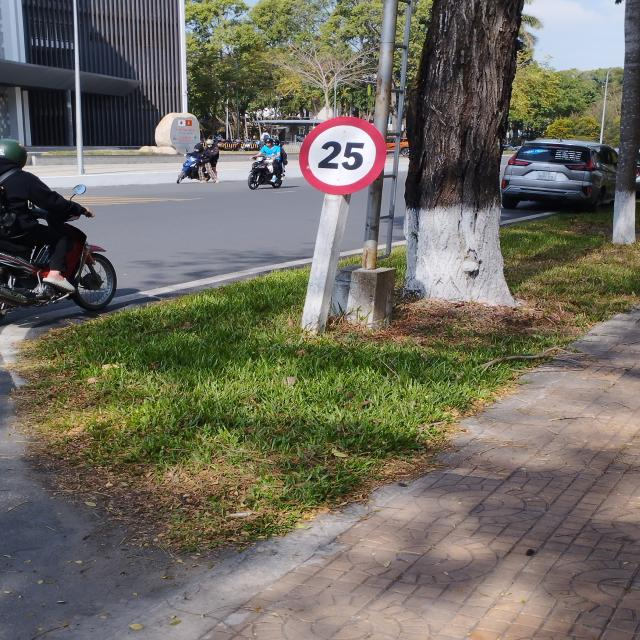Tre_Em: (301, 116, 388, 192)
